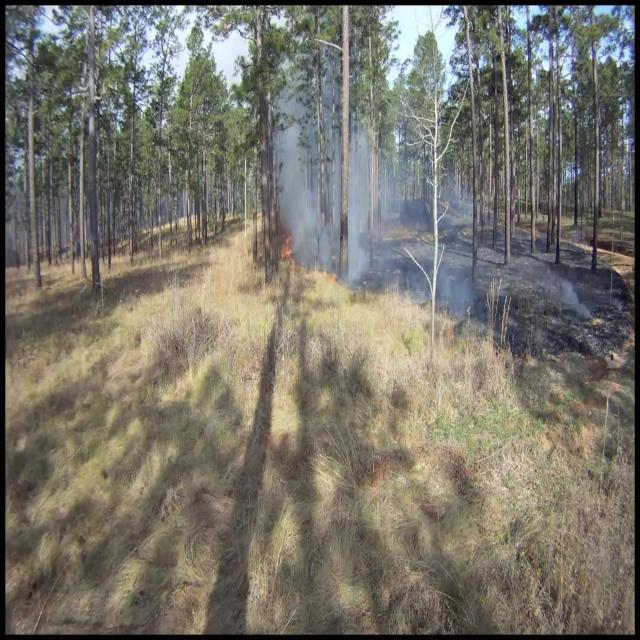Smoke: (271, 110, 403, 286)
